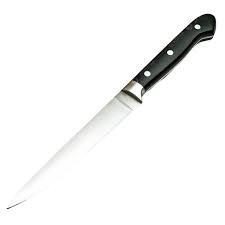Knife: (5, 12, 216, 210)
